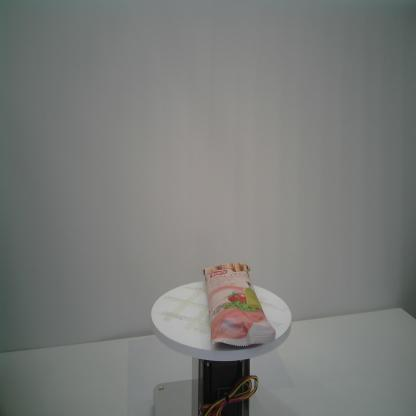Dessert: (203, 263, 276, 347)
